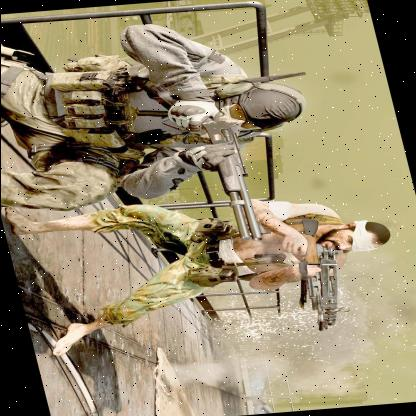rifle: (173, 110, 268, 246)
